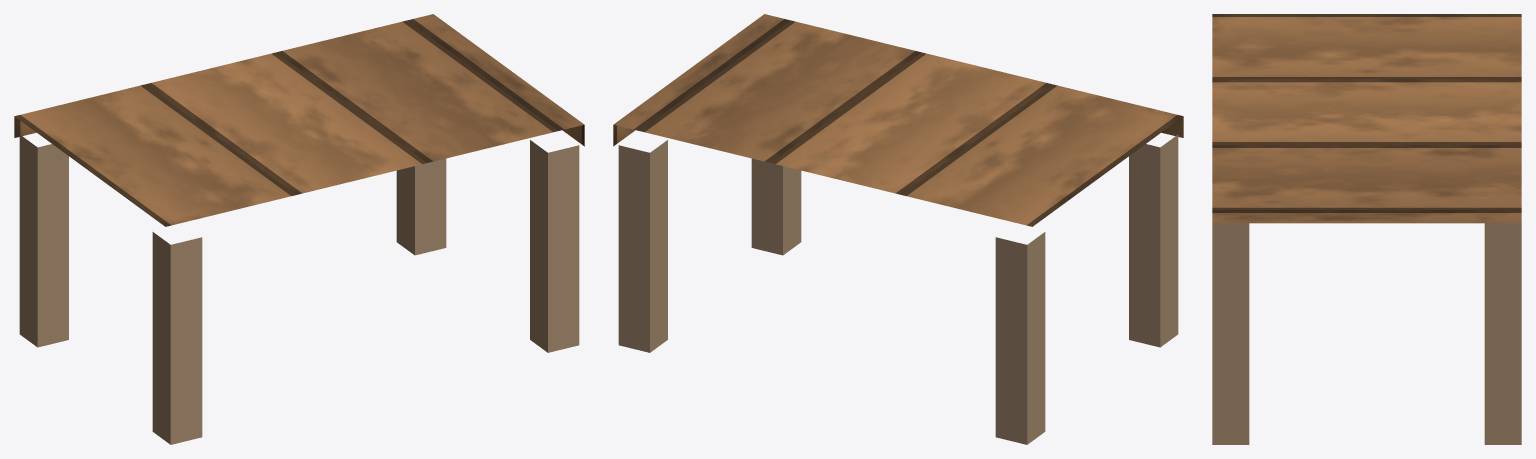
The model's file is prop_table.glb.
3 views of the same model, side by side, from view 1: azimuth 30°, elevation 25°; view 2: azimuth 150°, elevation 25°; view 3: azimuth 270°, elevation 25° (orthographic). The views are drawn at different scales.
Visible parts, largest first — view 1: prop; view 2: prop; view 3: prop.
Part boxes in pixels (x1=…): prop: x1=14, y1=14, x2=584, y2=444; prop: x1=613, y1=14, x2=1183, y2=444; prop: x1=1212, y1=14, x2=1521, y2=444.
Bounding box in the file's own units: 1.6 × 0.8 × 1.
Materials: 5 (1 with a texture image).
